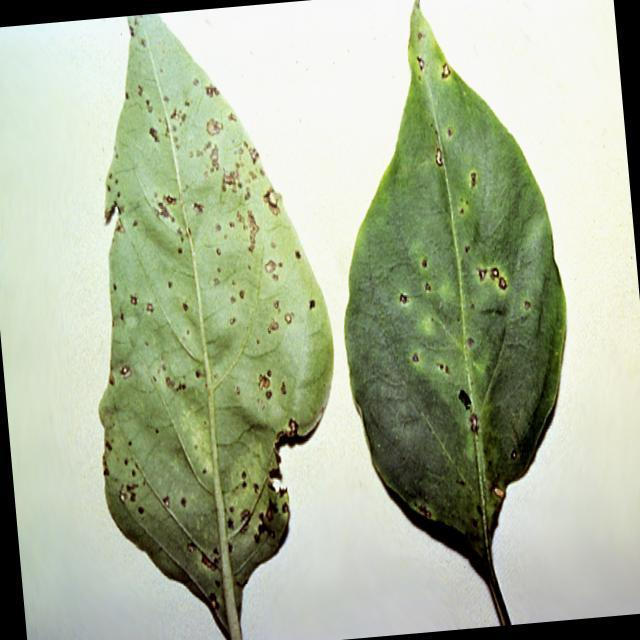Bacterial Spot: (99, 72, 297, 538), (375, 126, 535, 462)
